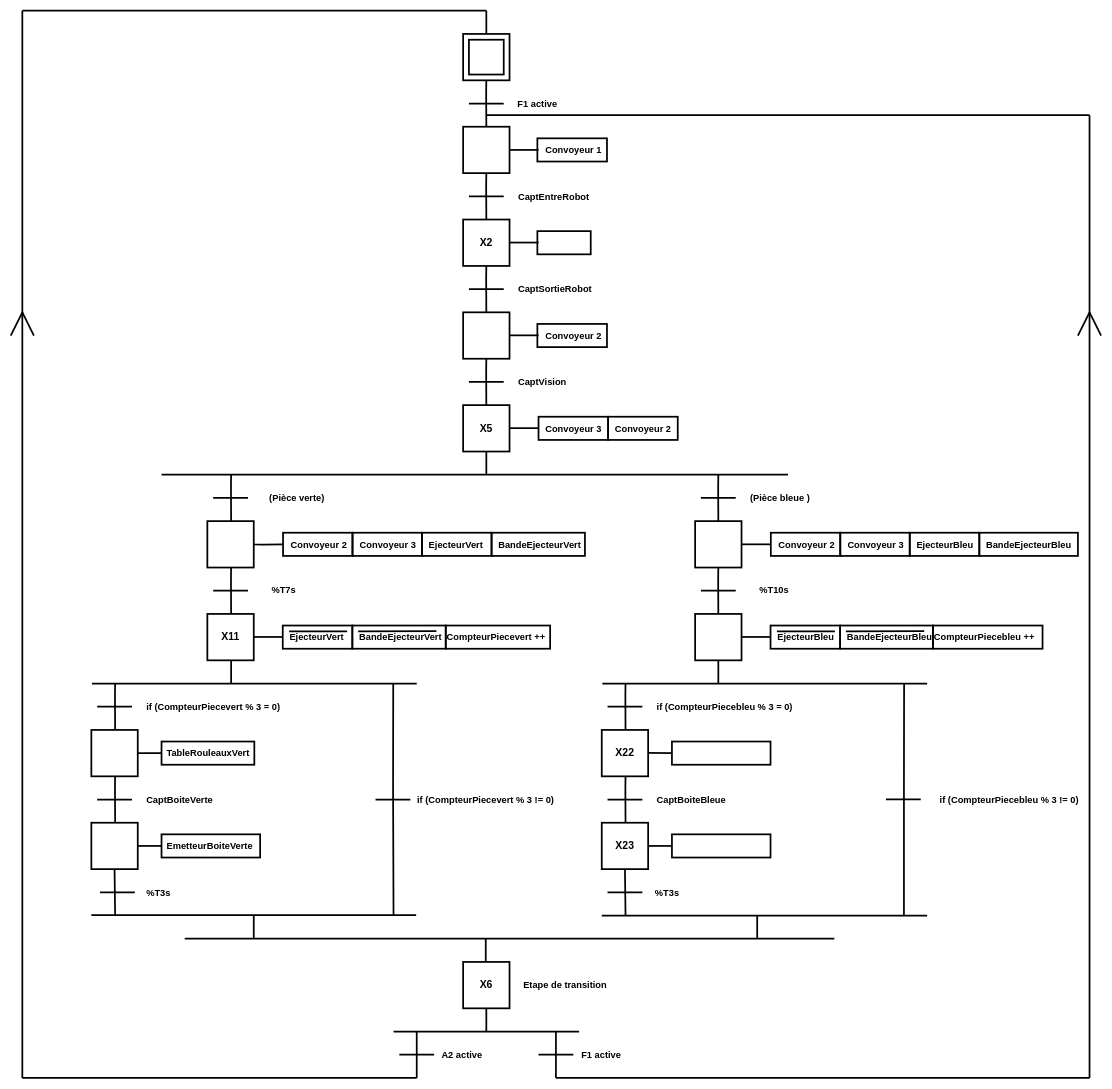
Some shapes in this 1112 by 1089 pixel diagram are drawn without their labels. Each missing label, with the centre of its shape:
EmetteurBoiteBleue: point 721,845
TableRouleauxBleu: point 721,752
Usinage: point 563,242
X0: point 486,57
X1: point 486,150
X10: point 230,544
X12: point 114,753
X13: point 114,846
X20: point 718,544
X21: point 718,637
X4: point 486,335
